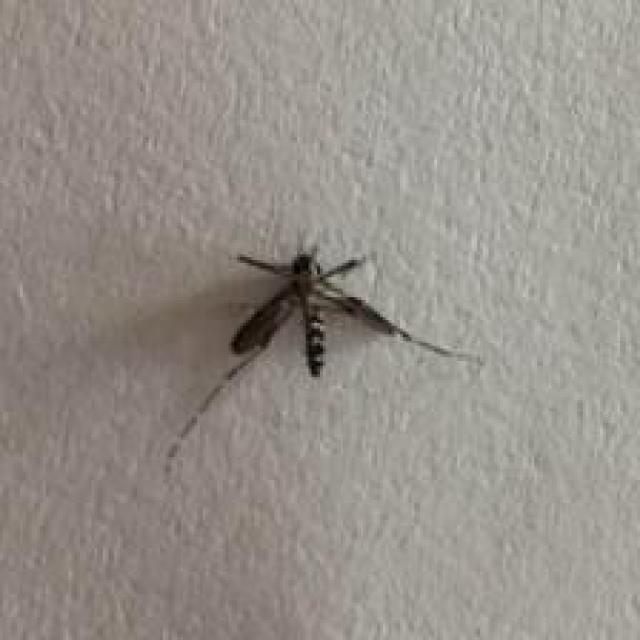Aedes albopictus: (163, 228, 483, 466)
